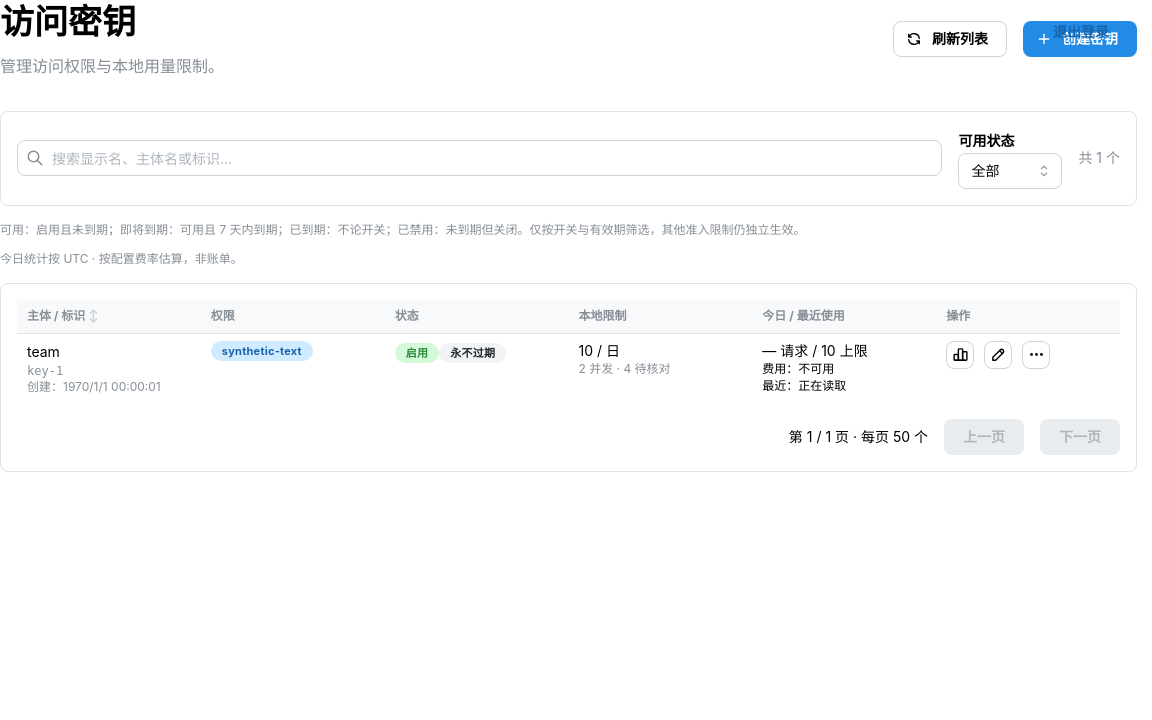
Test: refreshes and closes the editor when policy commits but name is rejected
Click the button named "编辑" at (998, 355), box [984,341,1012,369]
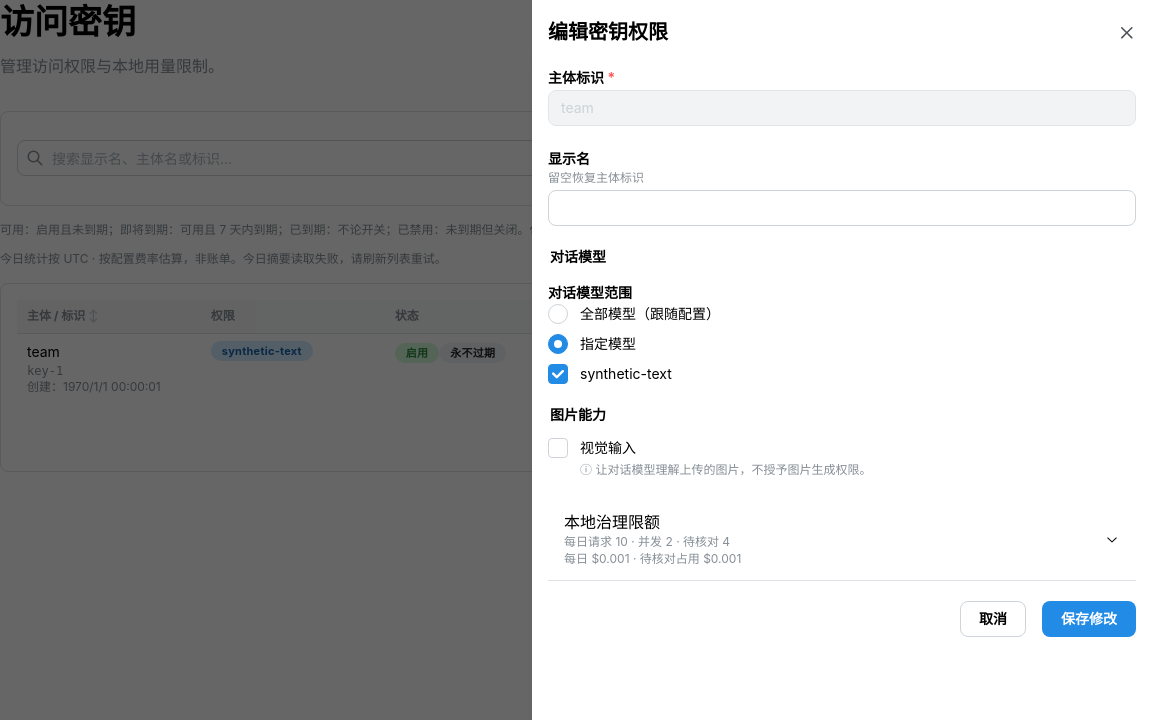
Type "合成别名" into the field labelled "显示名" at (842, 208), box [548,190,1136,226]
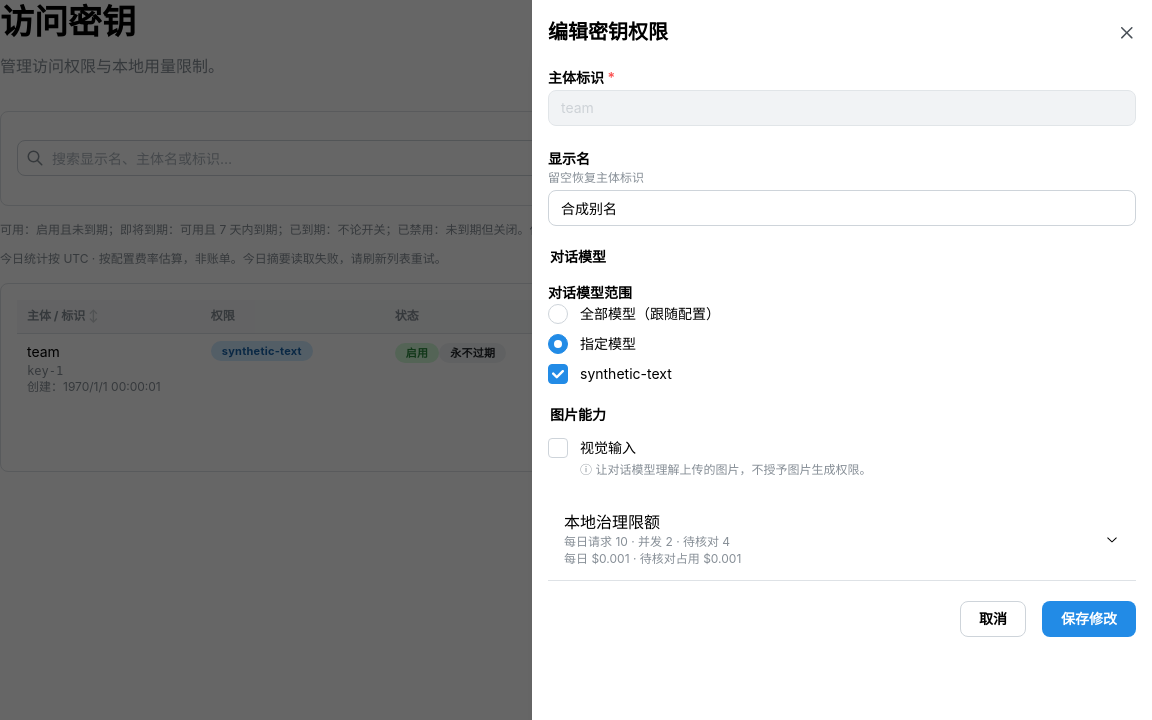
Click the checkbox labelled "视觉输入" at (558, 448), box [548,438,568,458]
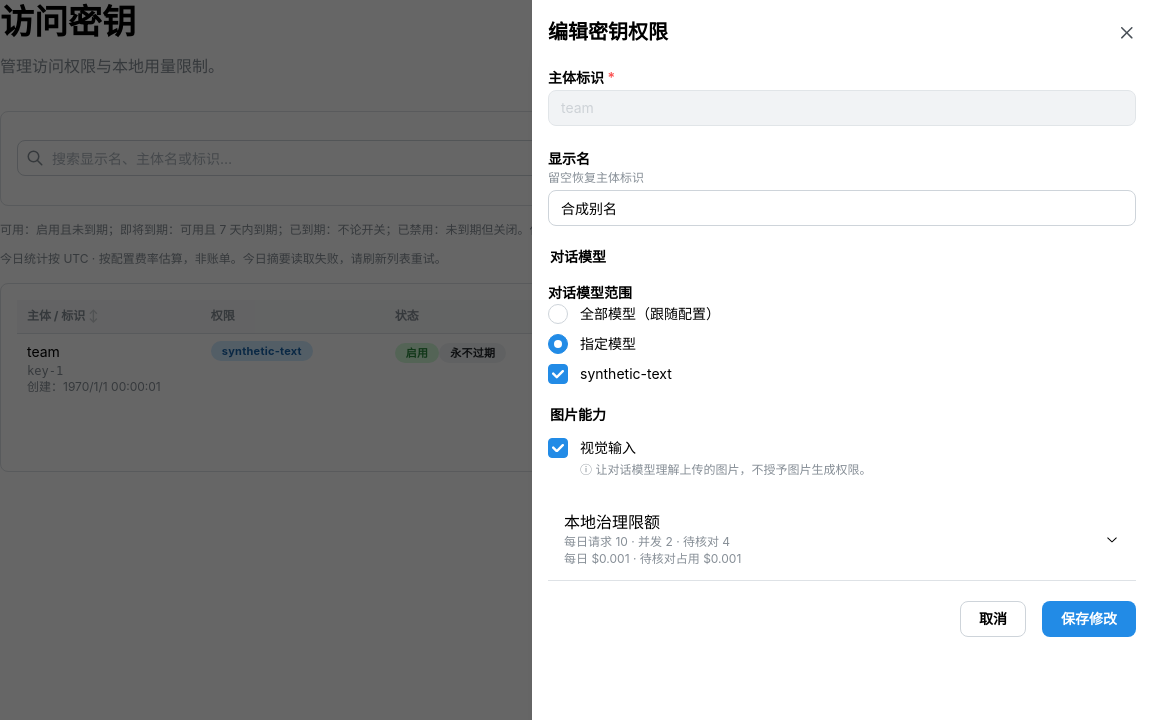
Click the button "保存修改" at (1089, 619), box [1042,601,1136,637]
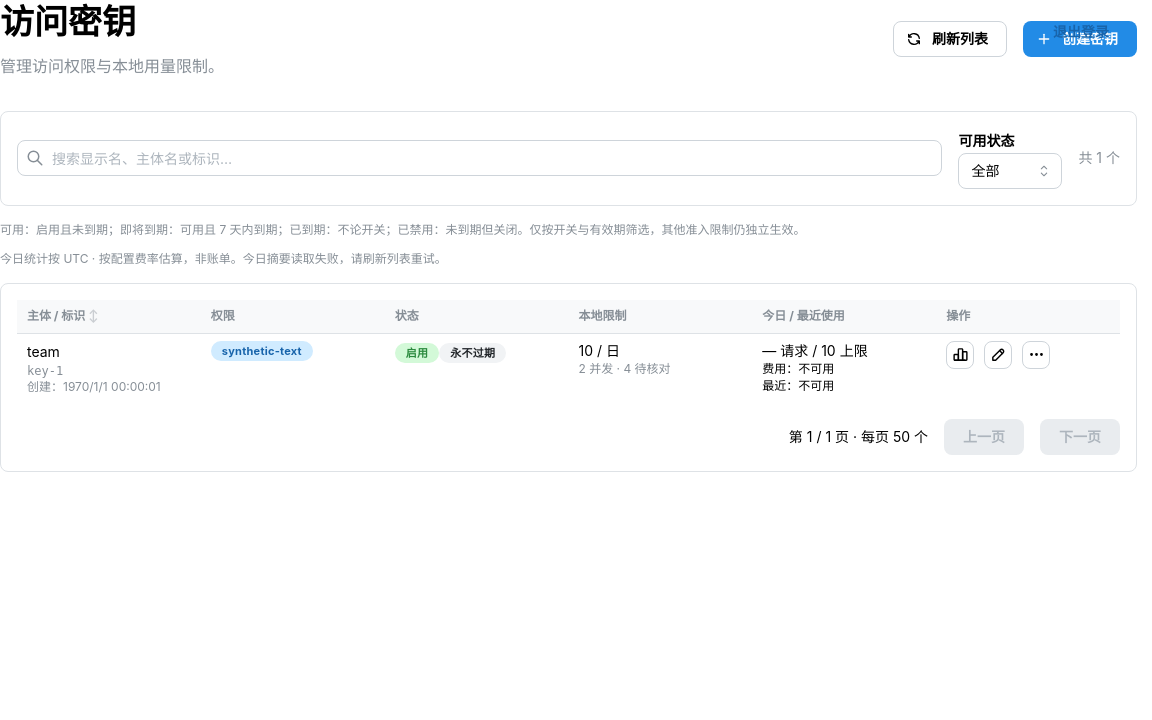
Check: the button "保存修改" is gone
